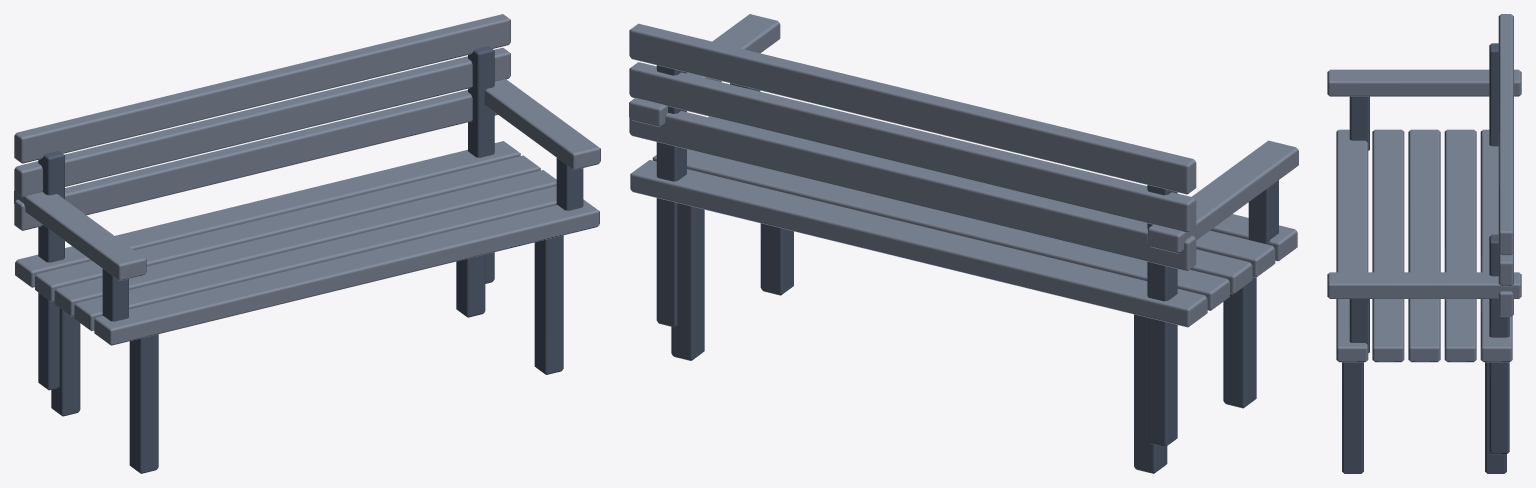
Rendered from garden-bench-lite.glb.
3 renders of one model, left to right at view 1: azimuth 30°, elevation 25°; view 2: azimuth 150°, elevation 25°; view 3: azimuth 270°, elevation 25°, orthographic. The views are drawn at different scales.
Visible parts, largest first — view 1: garden-bench; view 2: garden-bench; view 3: garden-bench.
Boxes of the visible parts, <box> form: garden-bench: <box>14,14,600,473</box>; garden-bench: <box>629,14,1298,473</box>; garden-bench: <box>1327,14,1521,473</box>.
Size of the model in its own units: 1.6 by 0.88 by 0.6.
